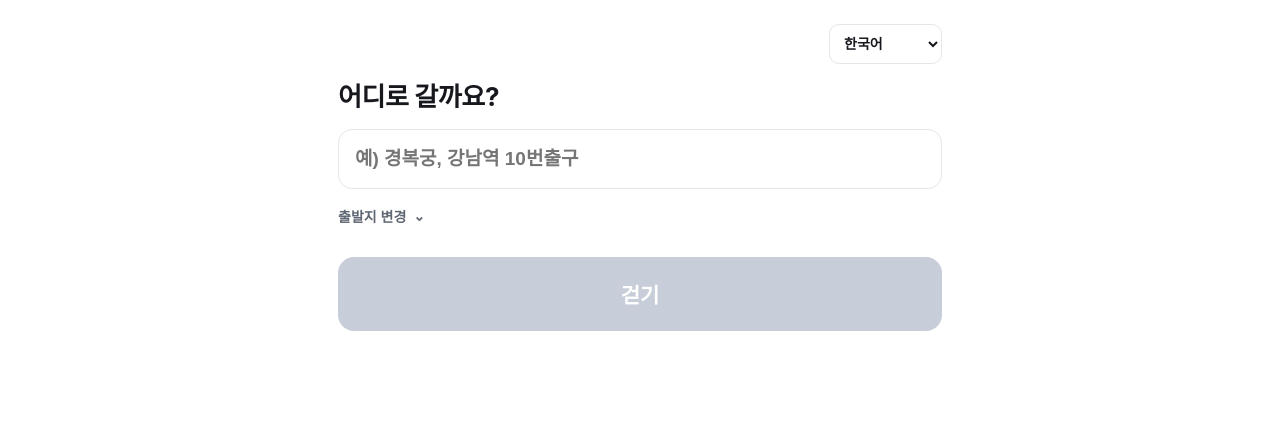
Test: TEST G — 사용자 시야방향과 GPS 이동방향은 별도 데이터다 › 지도 회전은 나침반을 사용하고 경로 표시는 GPS 이동방향을 유지한다
The image size is (1280, 424).
Type "경복궁" into the search field named "목적지" at (640, 159), box [338,129,942,189]
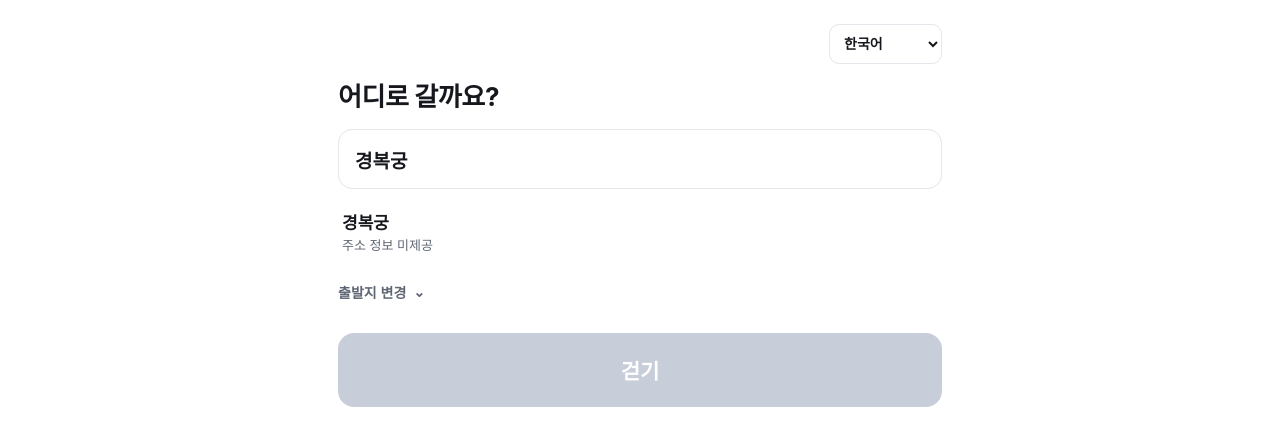
Click the button "경복궁 주소 정보 미제공" at (365, 224), box [338,199,942,264]
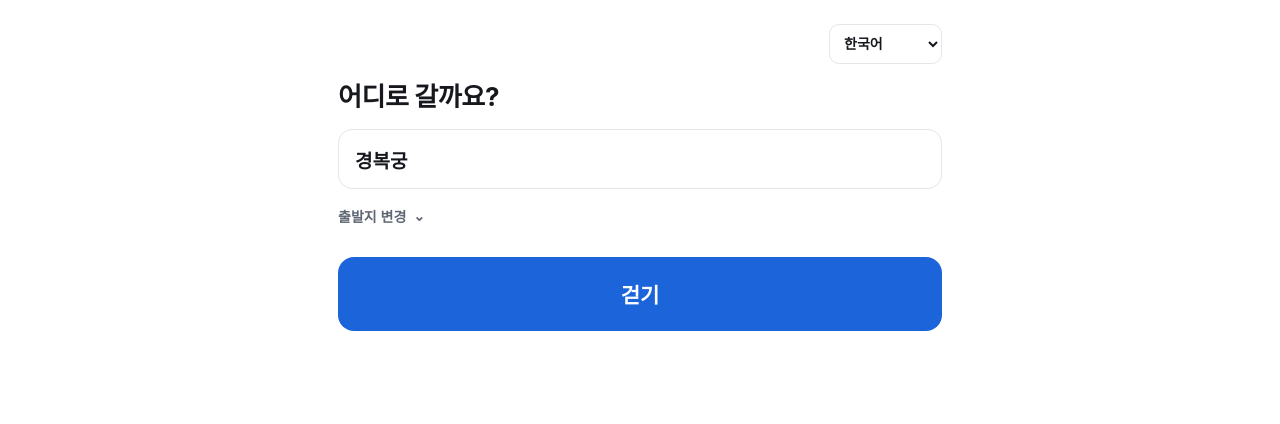
Click the button "걷기" at (640, 294), box [338,257,942,331]
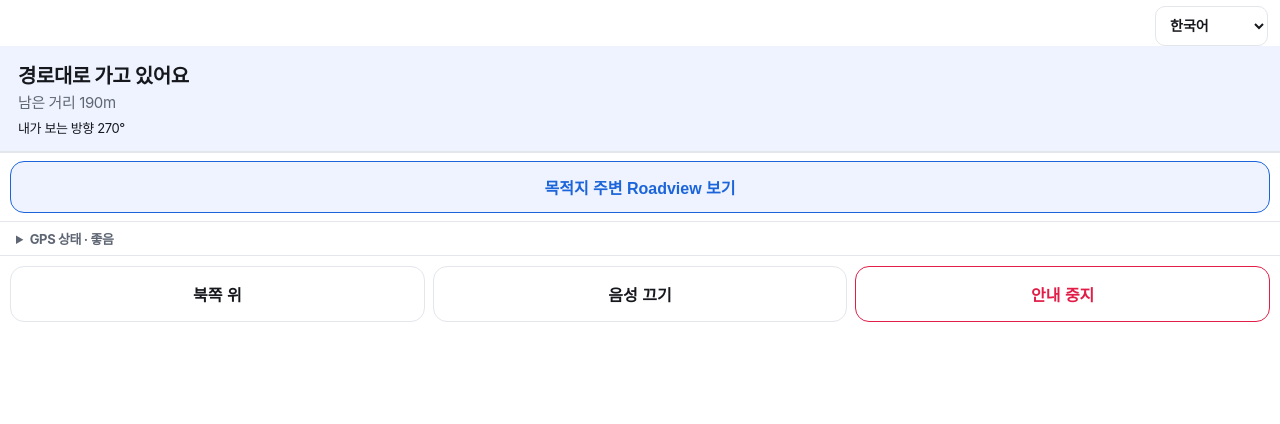
Check: the text "내가 보는 방향 270°" is shown, box [18,120,125,136]
